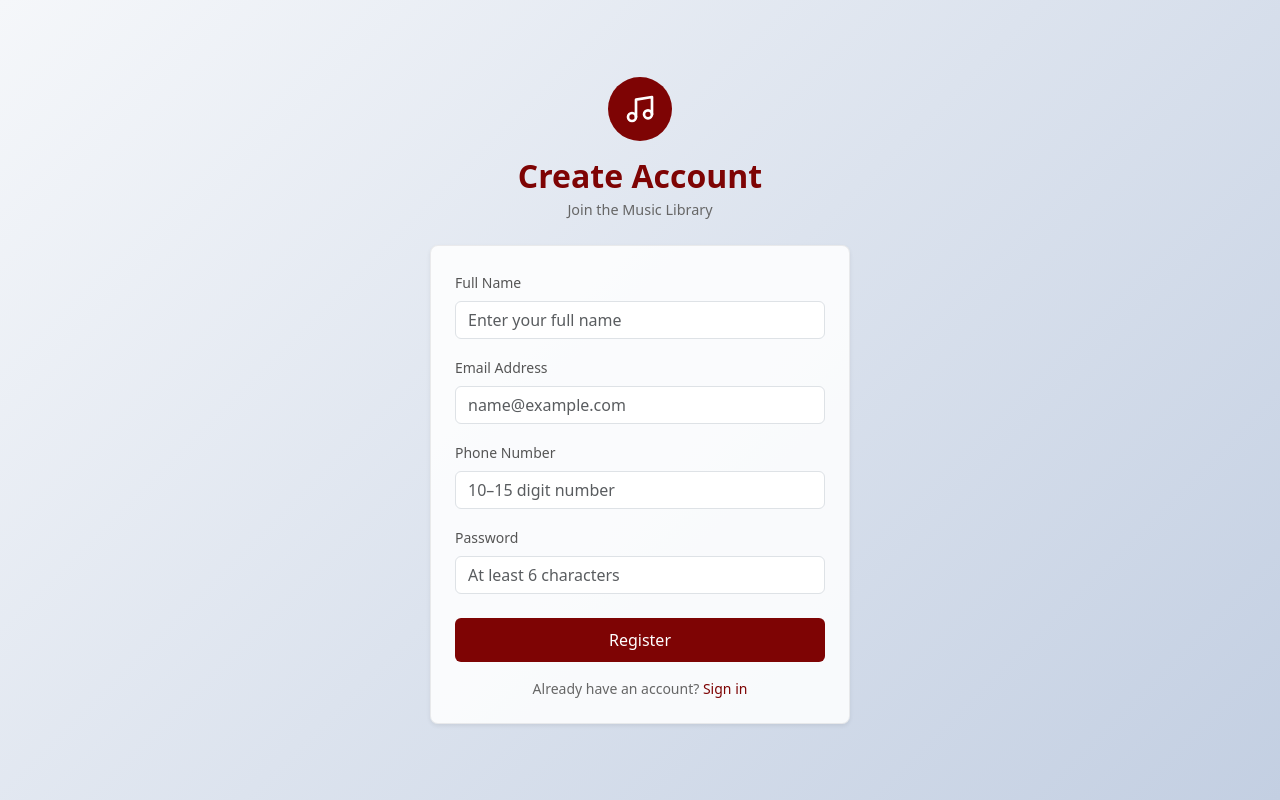
Test case: Register Page › should validate phone format — rejects letters
Type "abcde" into the field with placeholder "10–15 digit number" at (640, 490), box [455,471,825,509]
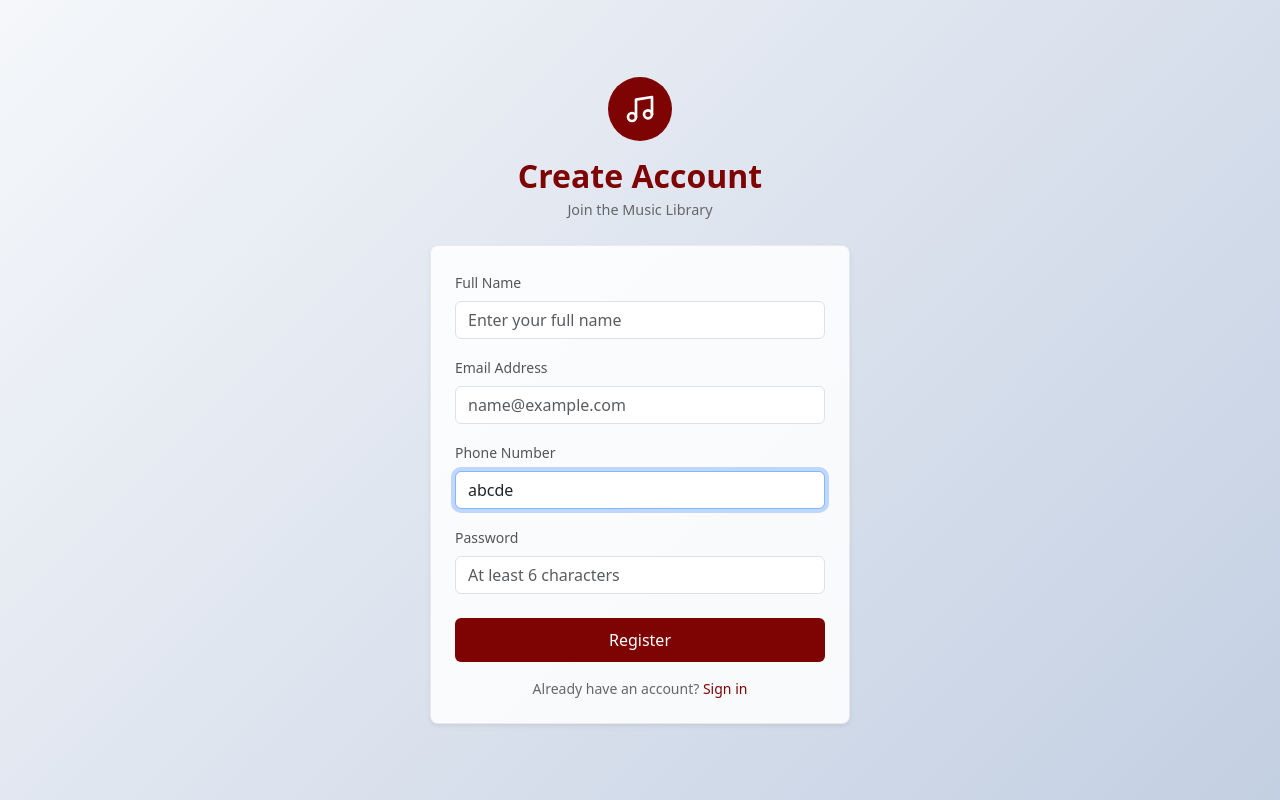
Leave the 3rd field, box [455,471,825,509]
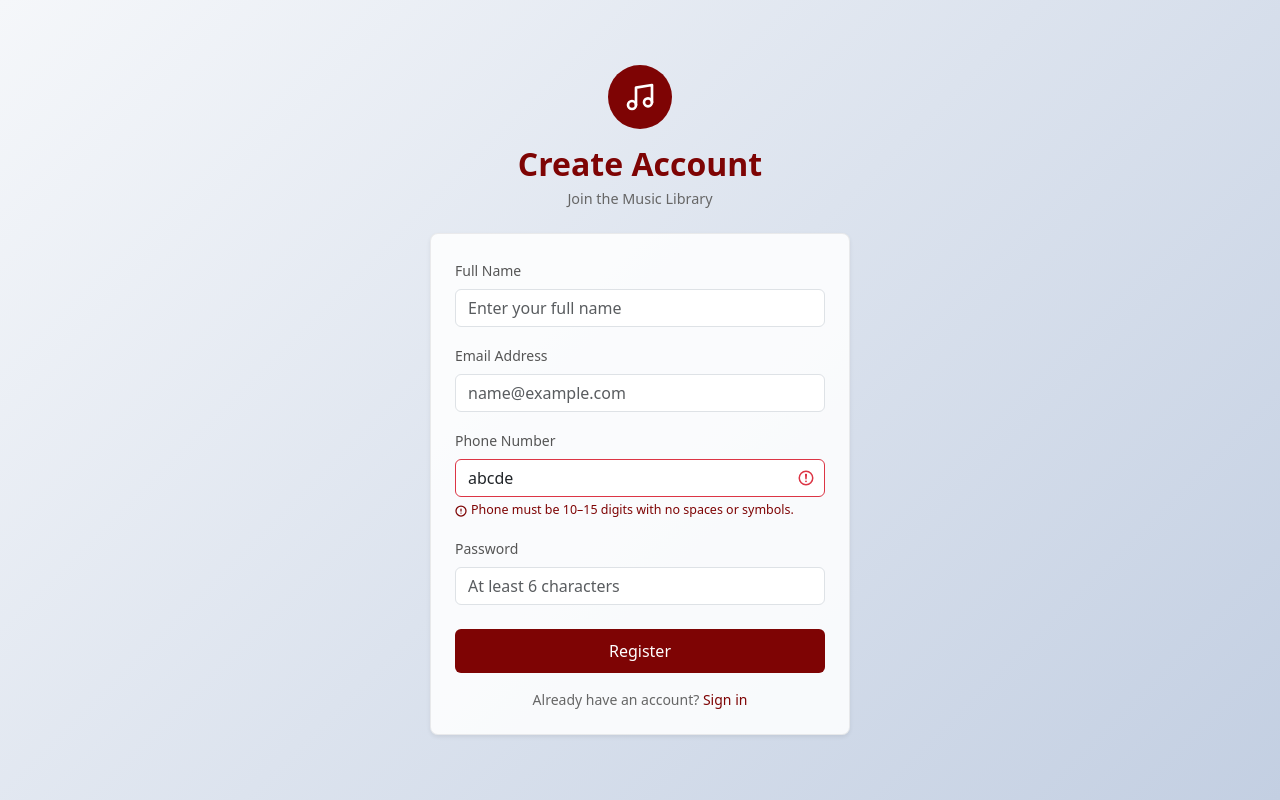
Expected: the text "Phone must be 10" is shown, [471,501,794,518]
